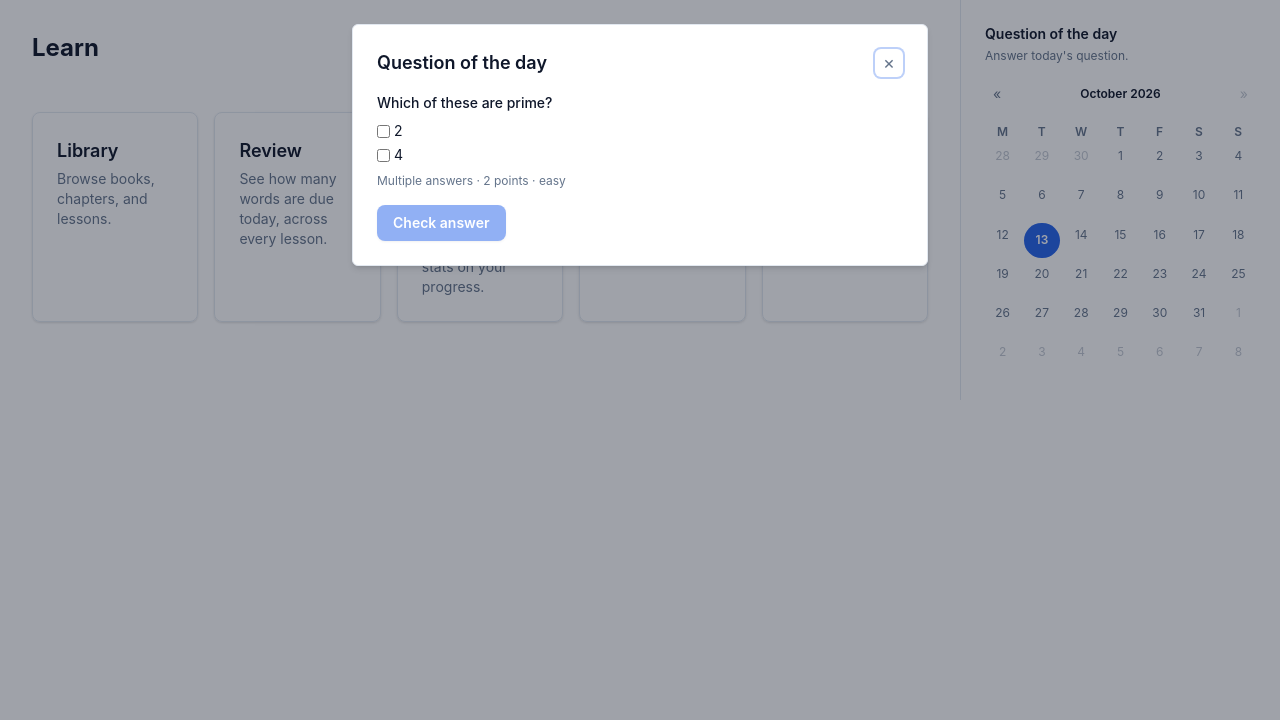
Test: LearnPage question of the day › keeps the overlay open after answering, showing the score and reasoning
Expected: the dialog is shown, [352, 24, 928, 266]
Click the checkbox labelled "2": (384, 131) [377, 124, 390, 138]
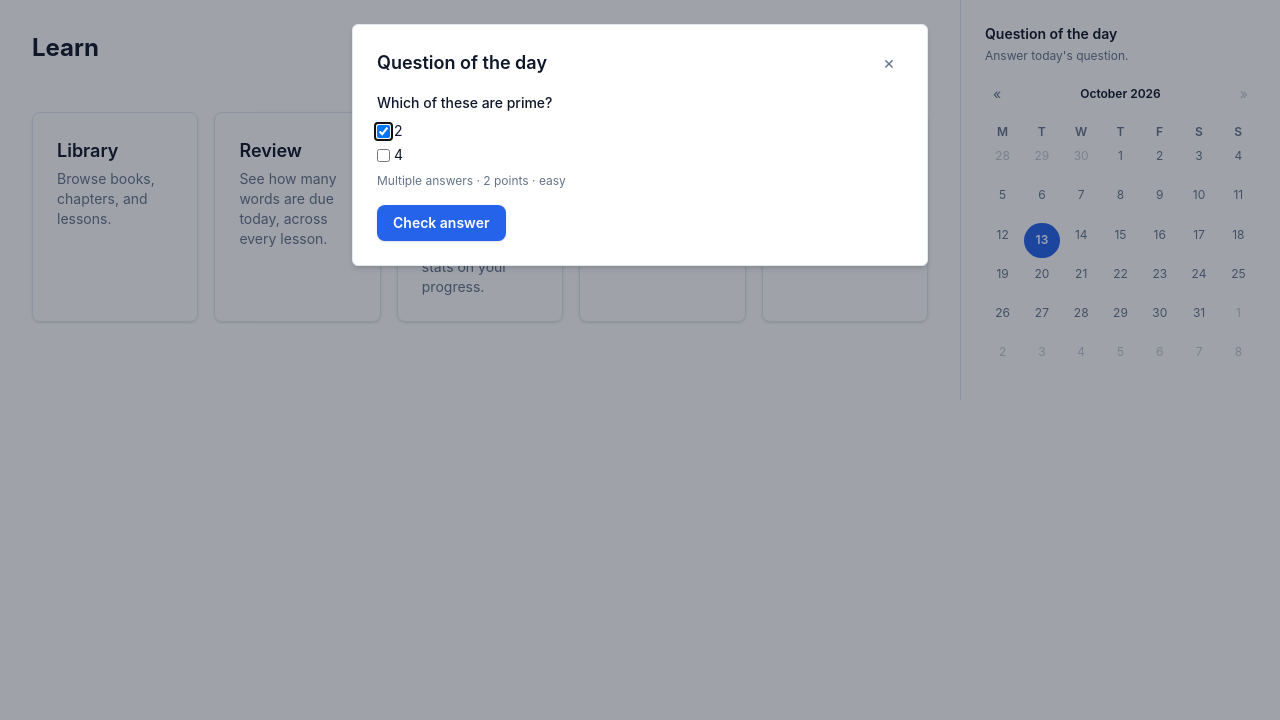
Click the button "Check answer": (441, 223) [377, 205, 506, 241]
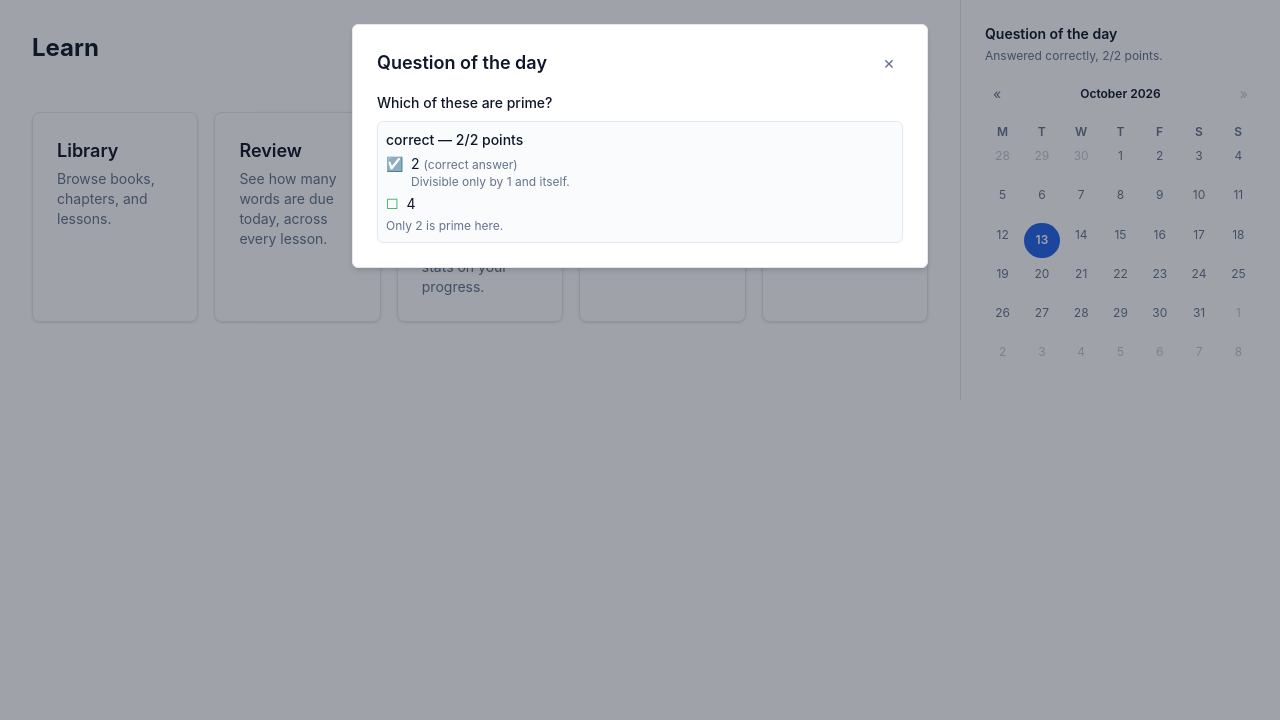
Expected: the dialog is shown, [352, 24, 928, 268]
Expected: the text "correct — 2/2 points" is shown, [386, 131, 523, 148]
Expected: the text "Divisible only by 1 and itself." is shown, [411, 174, 570, 189]
